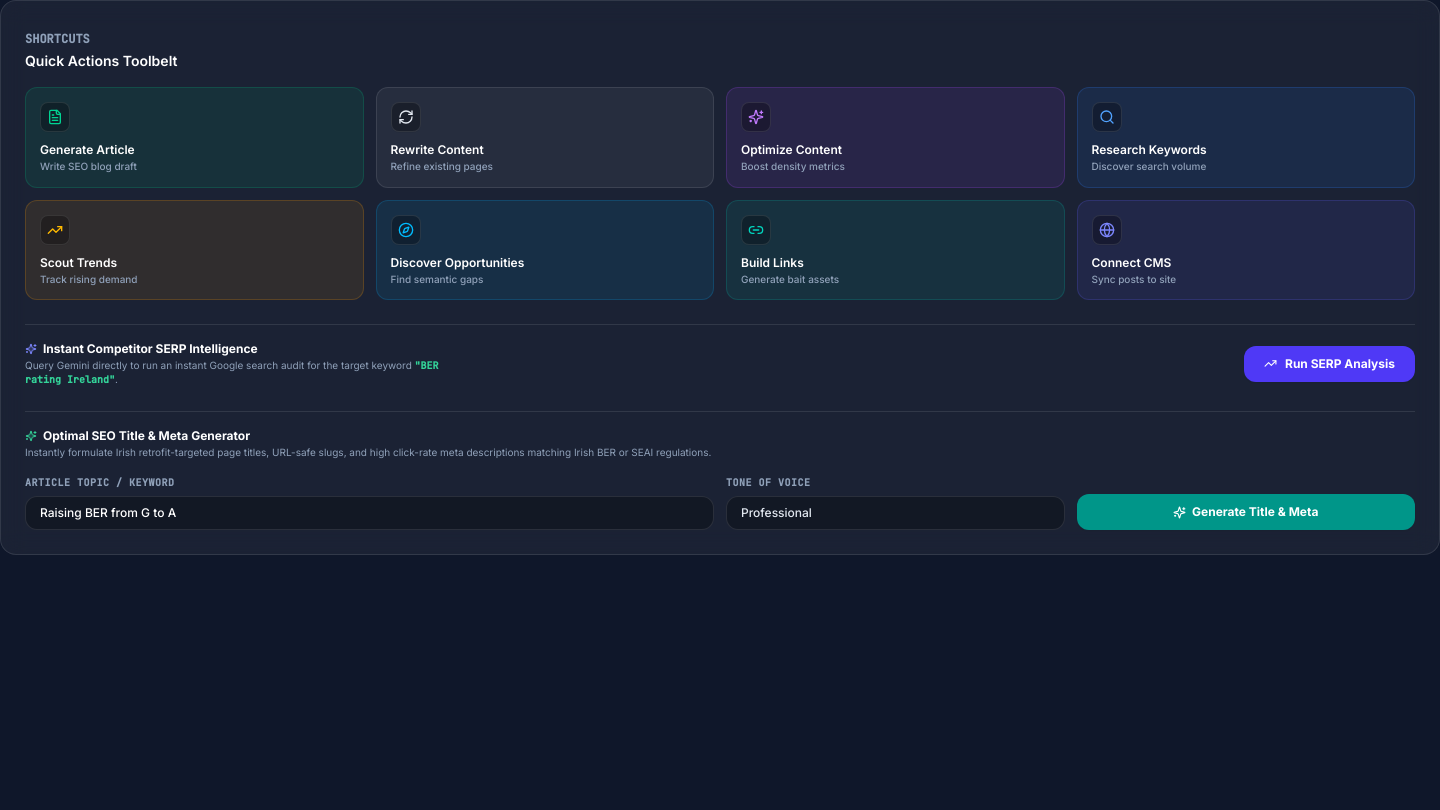
Test: QuickActionsGrid › displays error message when an action fails
The width and height of the screenshot is (1440, 810).
Click the button "Run SERP Analysis" at (1330, 364), box [1244,346,1415,382]
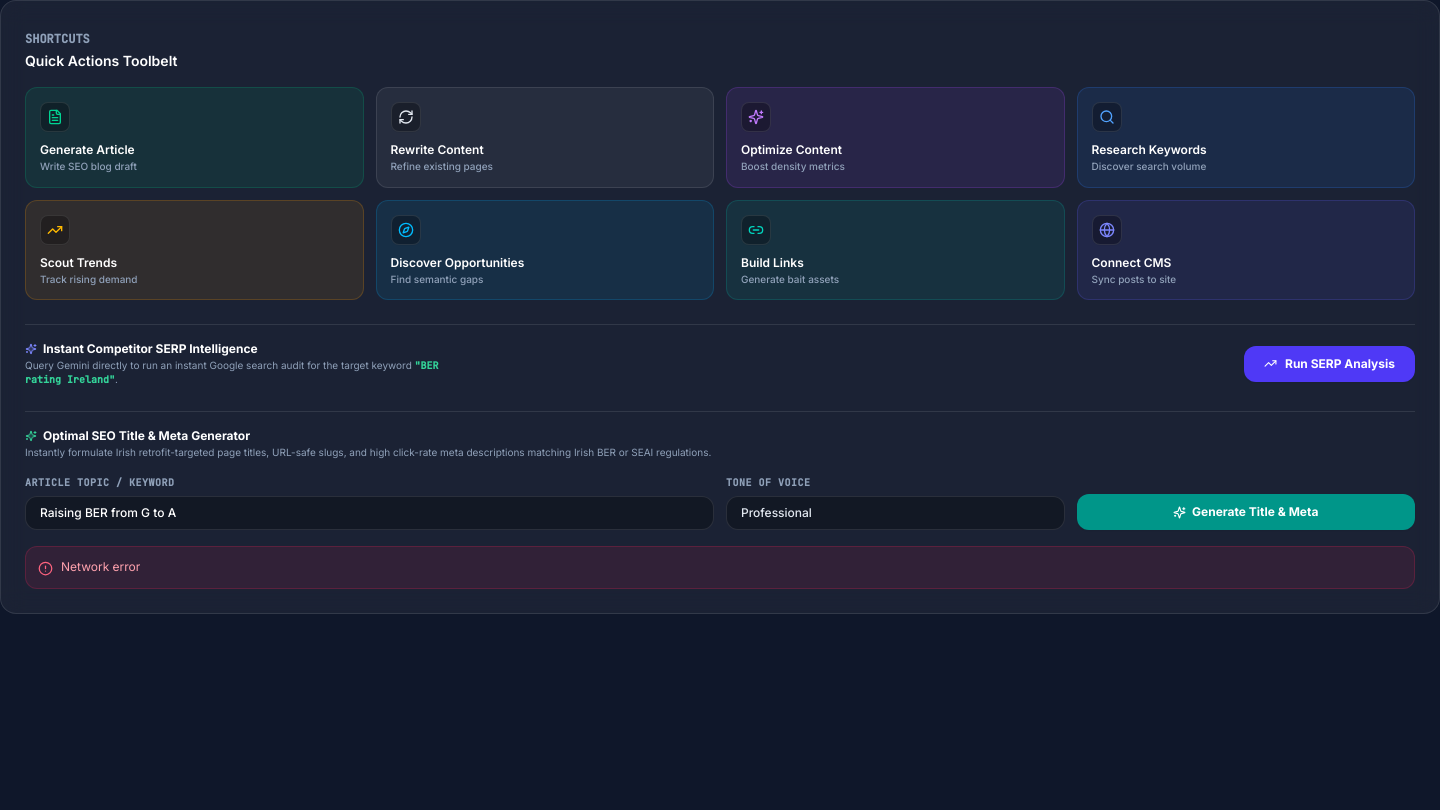
Check: the text "Network error" is shown, box [61,559,140,576]
